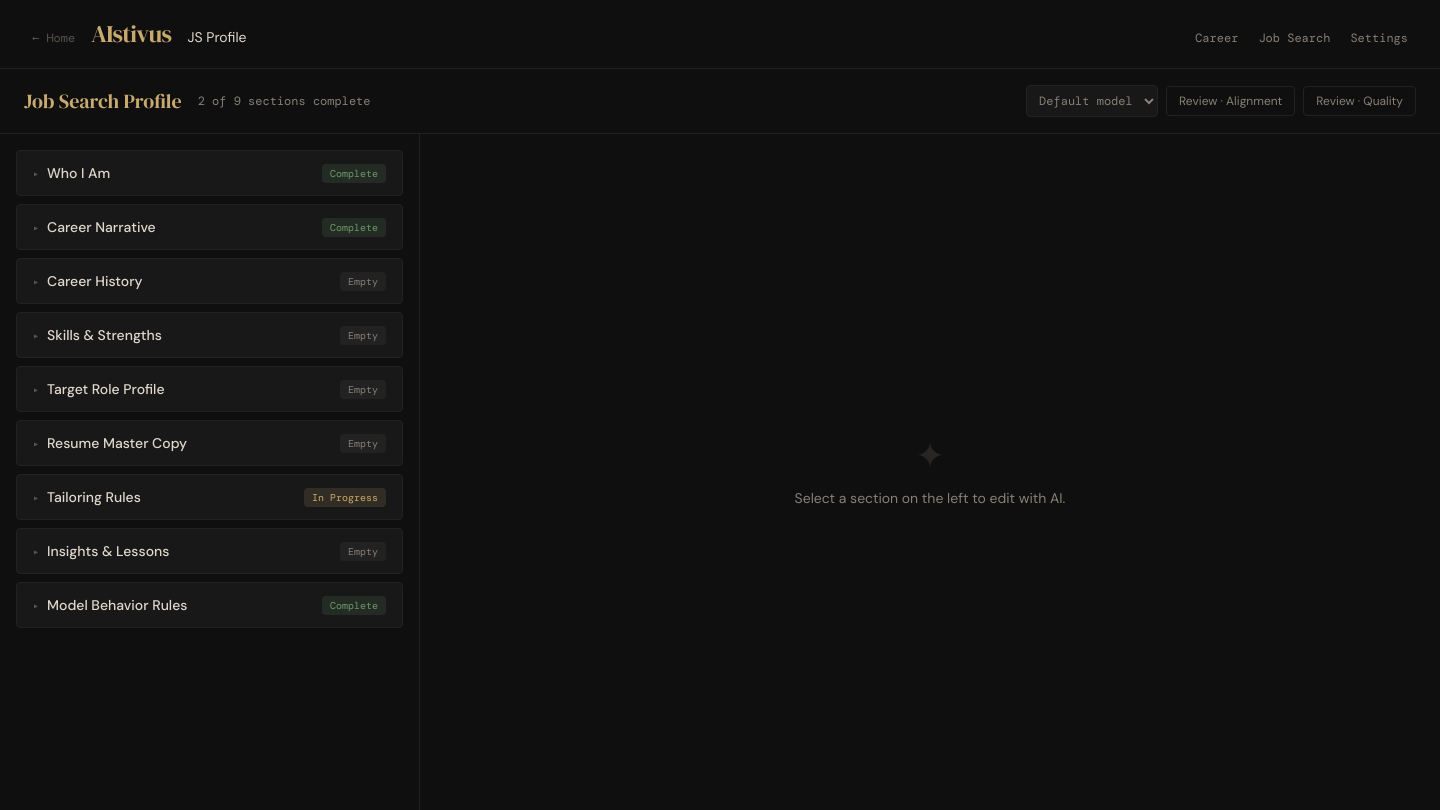
Test: JobSearchProfile › activates right panel when "Edit with AI" is clicked
expect the text "Career Narrative" is shown: met, box [47,217,156,237]
// Expand the Career Narrative card first (collapsed by default)
Click the text "Career Narrative" at (94, 227), box [33,217,156,237]
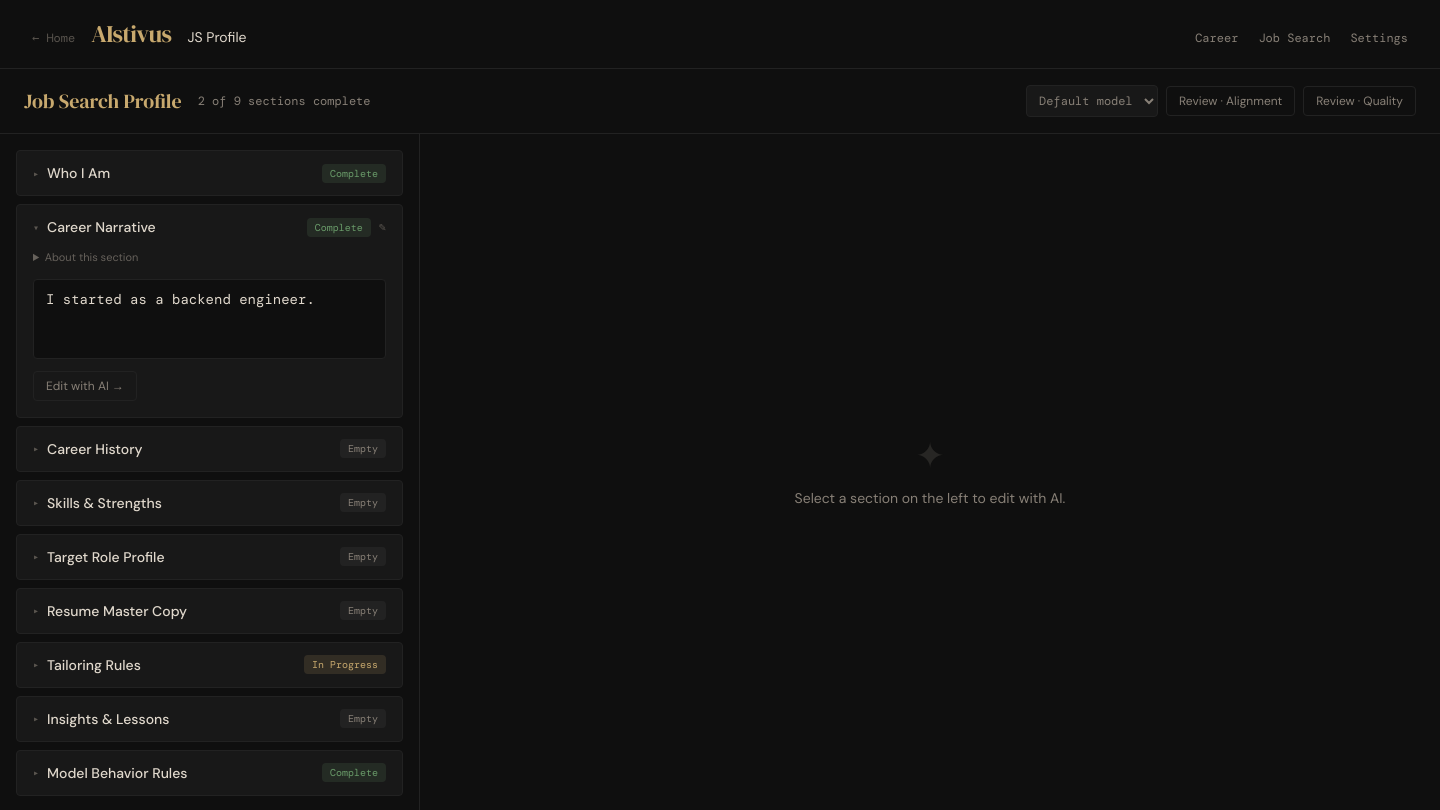
Click the button "Edit with AI →" at (85, 386), box [33,371,137,401]
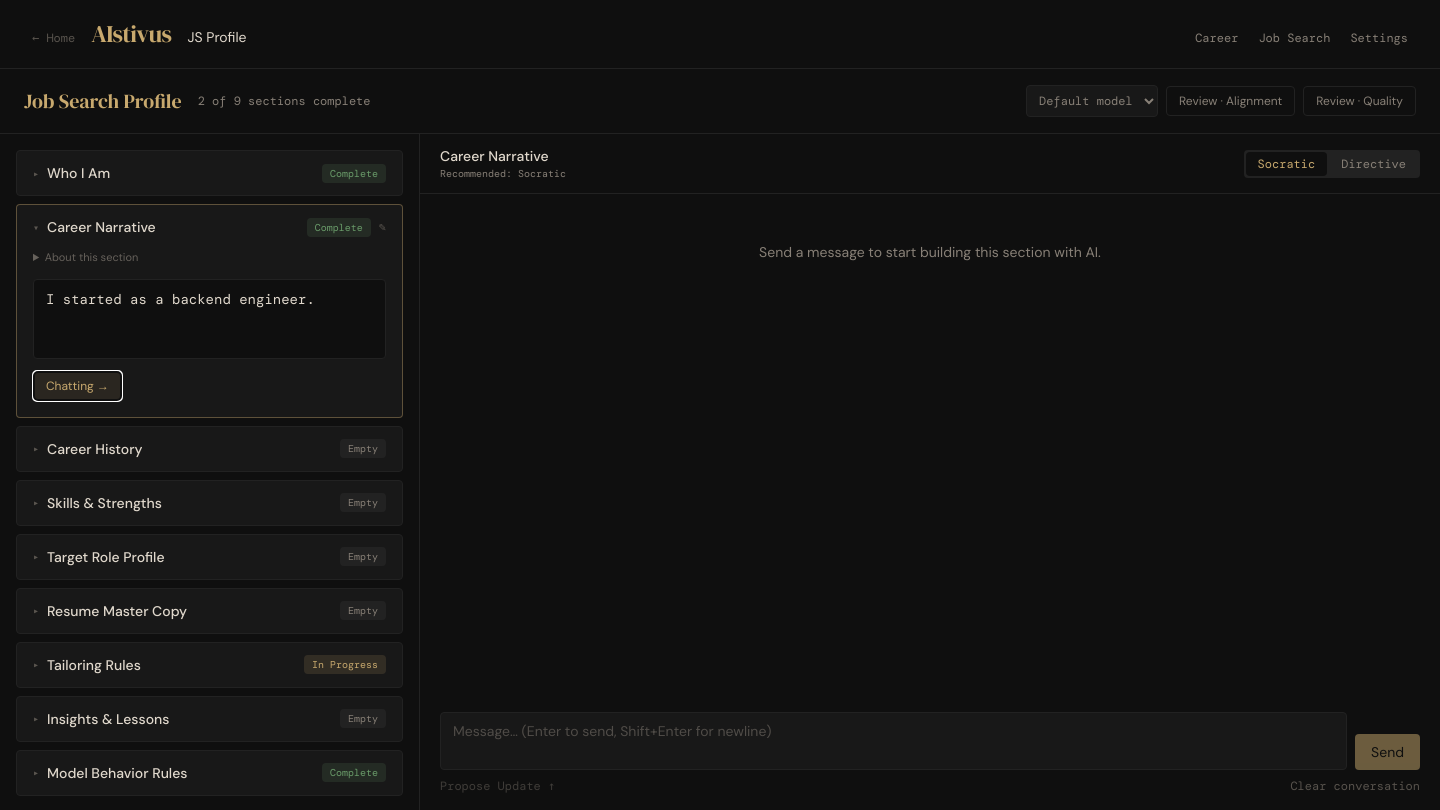
expect the text "Select a section on the left to edit with AI." is gone: met
